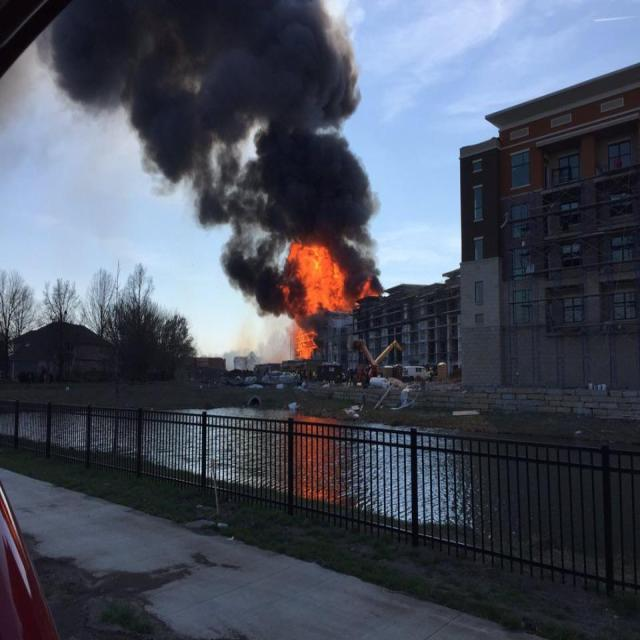Fire: (266, 230, 386, 356)
